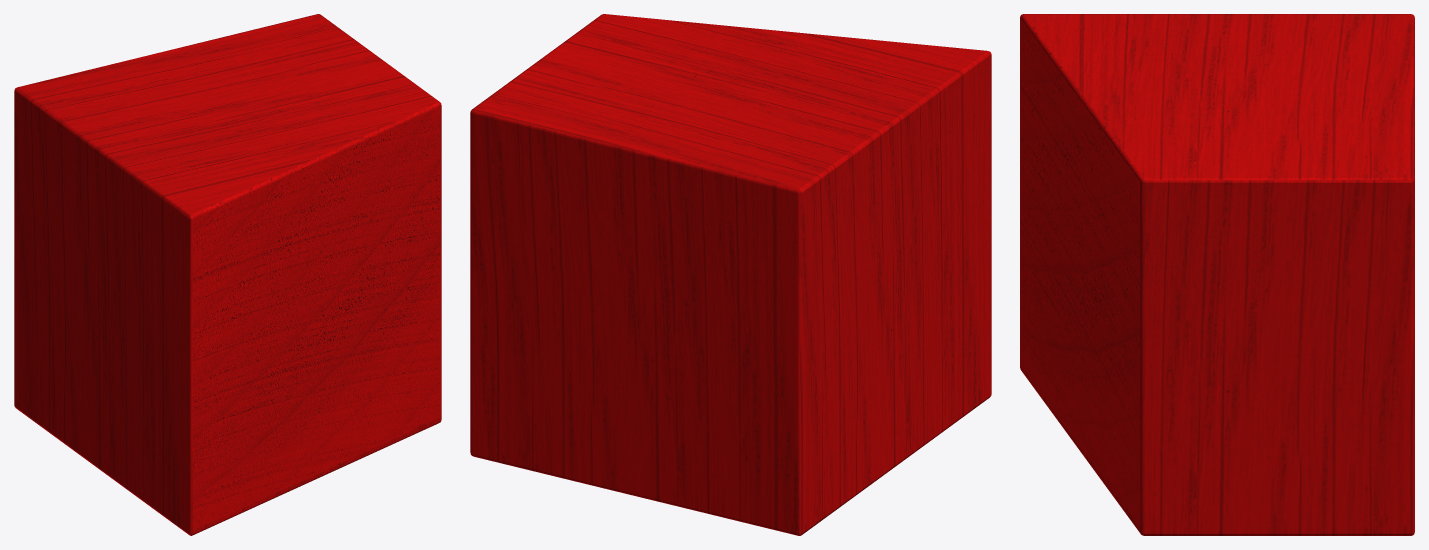
File: cubo3.glb
3 renders of one model, left to right at view 1: azimuth 30°, elevation 25°; view 2: azimuth 150°, elevation 25°; view 3: azimuth 270°, elevation 25°, orthographic. The views are drawn at different scales.
Parts seen in each view (by area): view 1: Cubo optimizado 1.3; view 2: Cubo optimizado 1.3; view 3: Cubo optimizado 1.3.
Boxes of the visible parts, <box> form: Cubo optimizado 1.3: <box>14,14,441,535</box>; Cubo optimizado 1.3: <box>470,14,991,535</box>; Cubo optimizado 1.3: <box>1020,14,1414,535</box>.
Size of the model in its own units: 2 by 2 by 2.
Materials: 1 (1 with a texture image).
